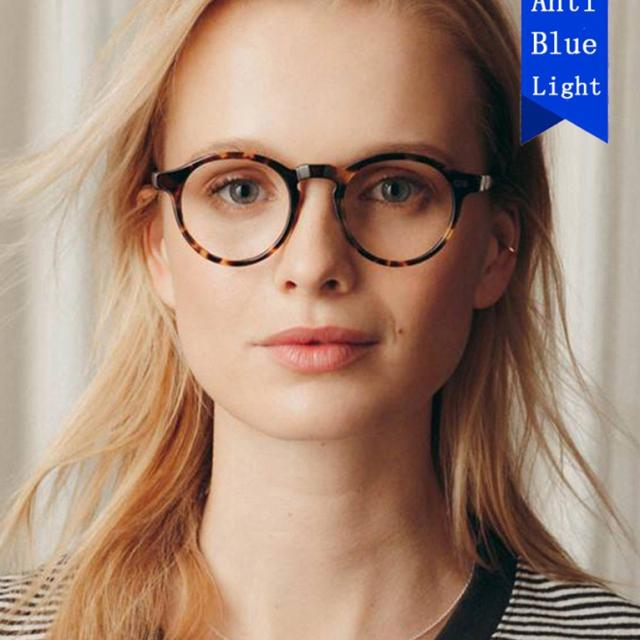Glasses: (147, 148, 502, 272)
